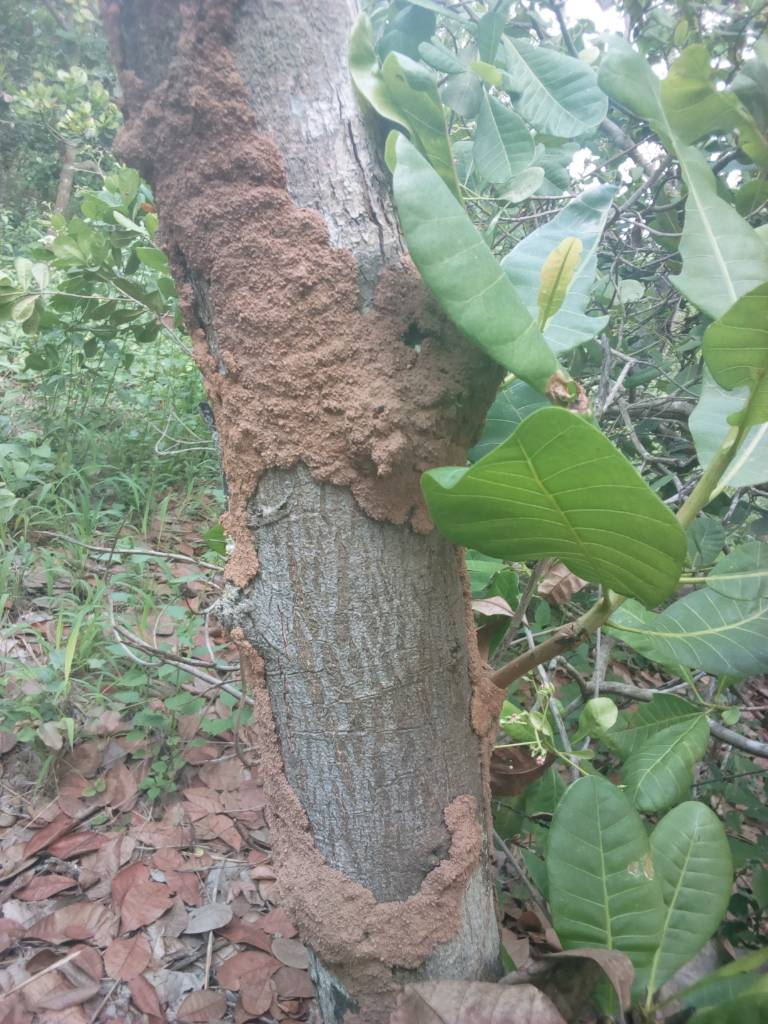Termites: (132, 50, 438, 539), (255, 792, 500, 967)
